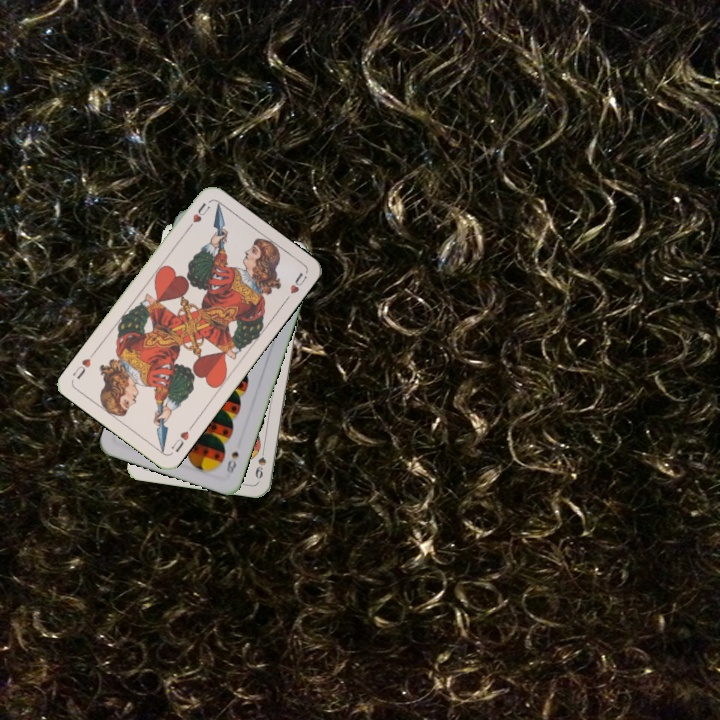HU: (183, 198, 213, 233), (167, 421, 195, 455)
S8: (222, 447, 241, 476)
S9: (251, 442, 269, 481)
